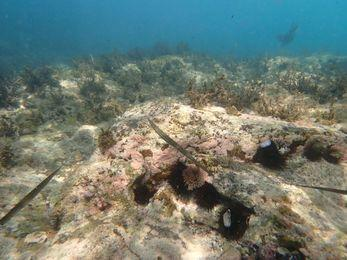Fistularia commersonii: (119, 117, 243, 192)
